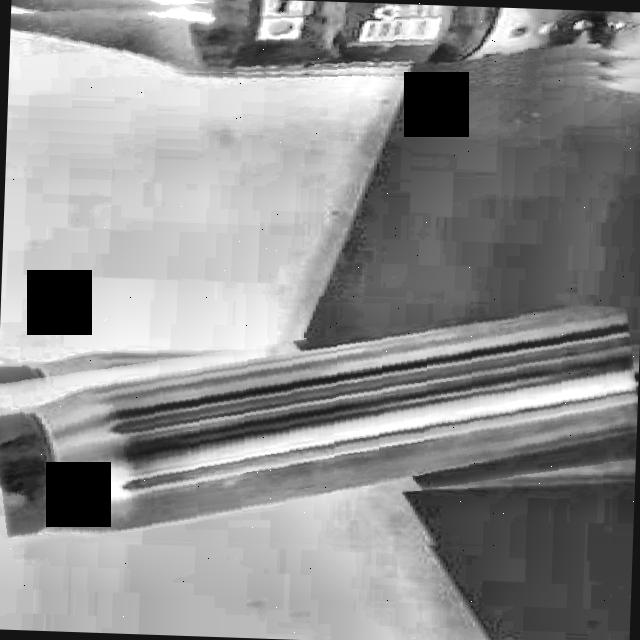bottle: (0, 304, 637, 539), (10, 0, 640, 73)
